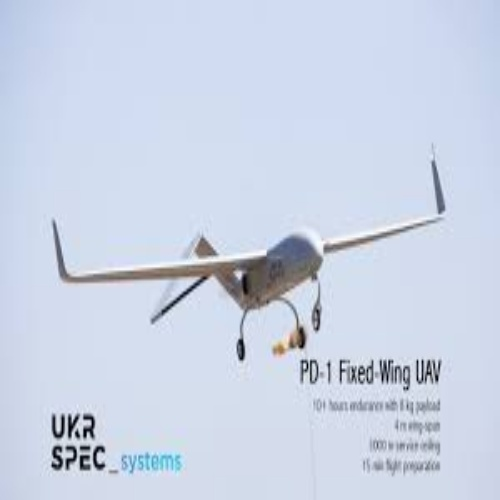uav: (48, 141, 450, 364)
